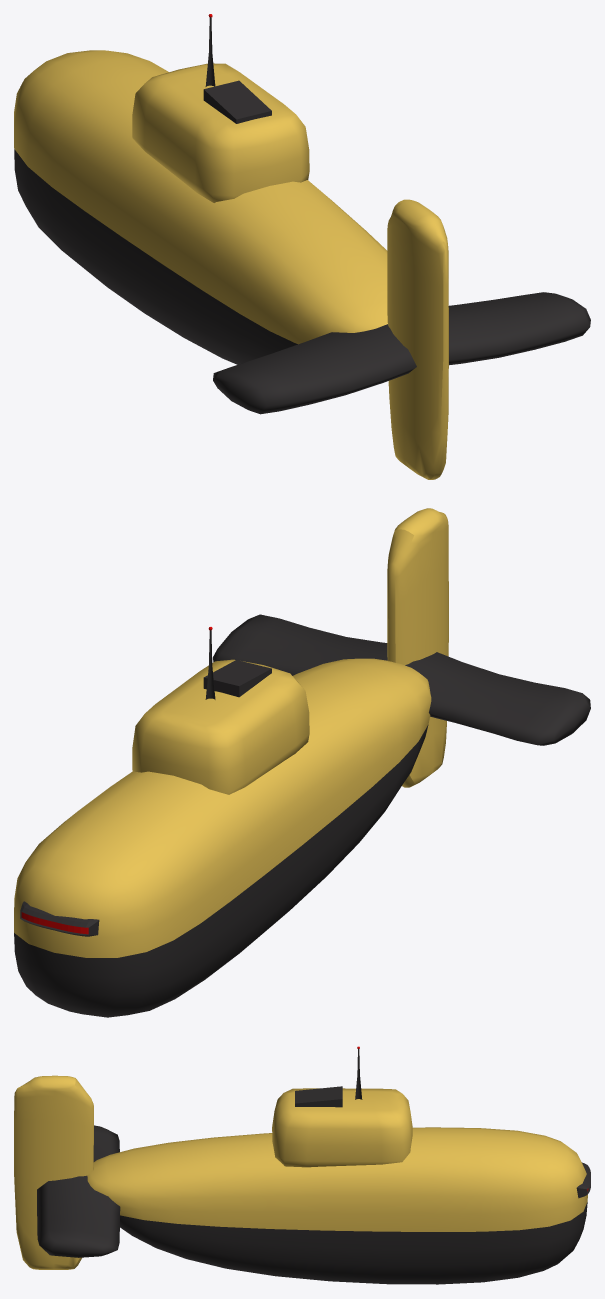
File: corndog.fbx
3 renders of one model, top to bottom at view 1: azimuth 30°, elevation 25°; view 2: azimuth 150°, elevation 25°; view 3: azimuth 270°, elevation 25°, orthographic. The views are drawn at different scales.
Visible parts, largest first — view 1: Corndog Shell, Corndog Tail, Corndog Hatch, Corndog Rudder, Corndog Greebles; view 2: Corndog Shell, Corndog Tail, Corndog Hatch, Corndog Rudder, Corndog Greebles, Corndog Front Light; view 3: Corndog Shell, Corndog Rudder, Corndog Hatch, Corndog Tail, Corndog Greebles.
Boxes of the visible parts, left/top/right/bottom form: Corndog Shell: left=14, top=50, right=387, bottom=364; Corndog Tail: left=213, top=292, right=590, bottom=414; Corndog Hatch: left=132, top=63, right=309, bottom=202; Corndog Rudder: left=387, top=199, right=448, bottom=479; Corndog Greebles: left=203, top=17, right=271, bottom=123; Corndog Shell: left=14, top=658, right=431, bottom=1017; Corndog Tail: left=213, top=614, right=590, bottom=745; Corndog Hatch: left=132, top=659, right=309, bottom=794; Corndog Rudder: left=387, top=508, right=448, bottom=787; Corndog Greebles: left=203, top=630, right=271, bottom=699; Corndog Front Light: left=20, top=901, right=99, bottom=936; Corndog Shell: left=87, top=1127, right=587, bottom=1284; Corndog Rudder: left=14, top=1075, right=93, bottom=1269; Corndog Hatch: left=272, top=1088, right=412, bottom=1167; Corndog Tail: left=37, top=1125, right=120, bottom=1257; Corndog Greebles: left=295, top=1049, right=362, bottom=1107.
Size of the model in its own units: 217 by 188 by 427.
